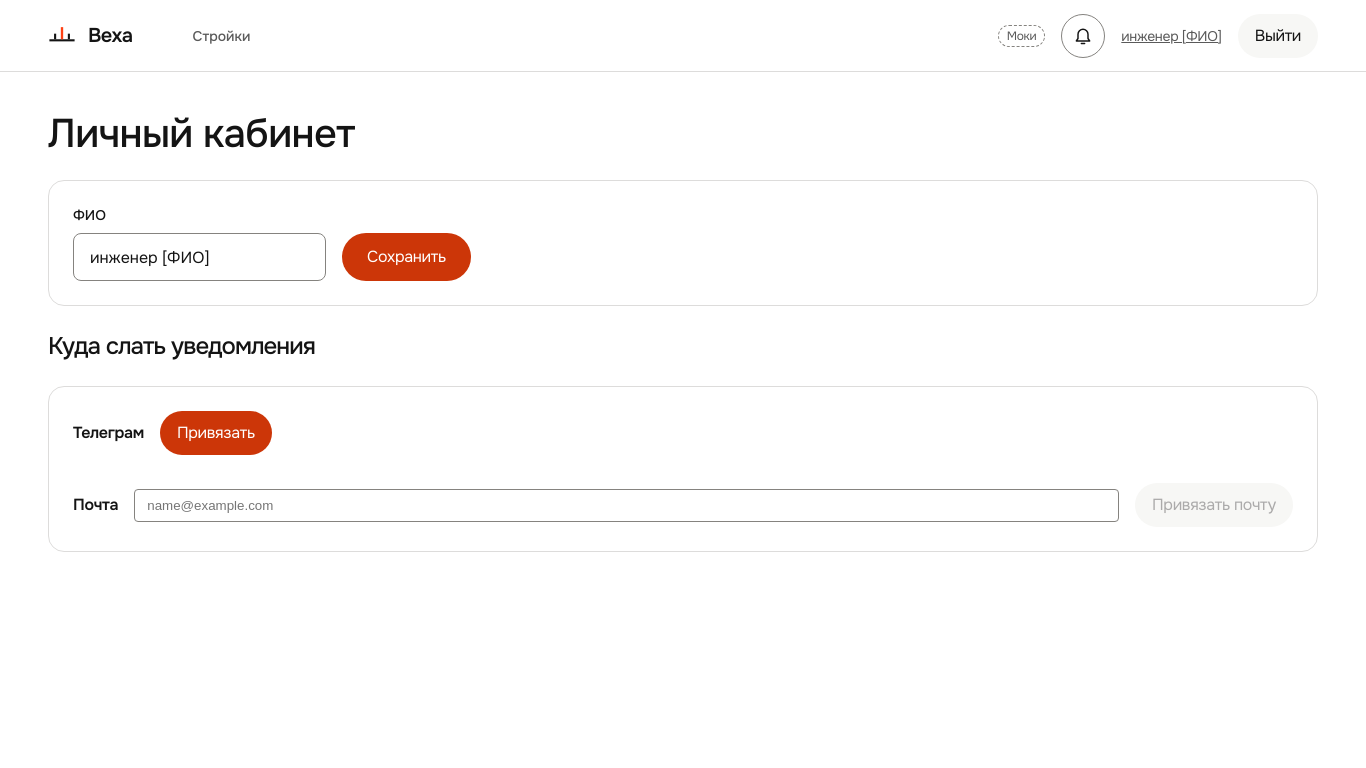
it: Личный кабинет › сохраняет новое ФИО
The image size is (1366, 768).
Replace the text in the field labelled "ФИО" with "Иванов И. И." at (200, 257), box [73,233,326,281]
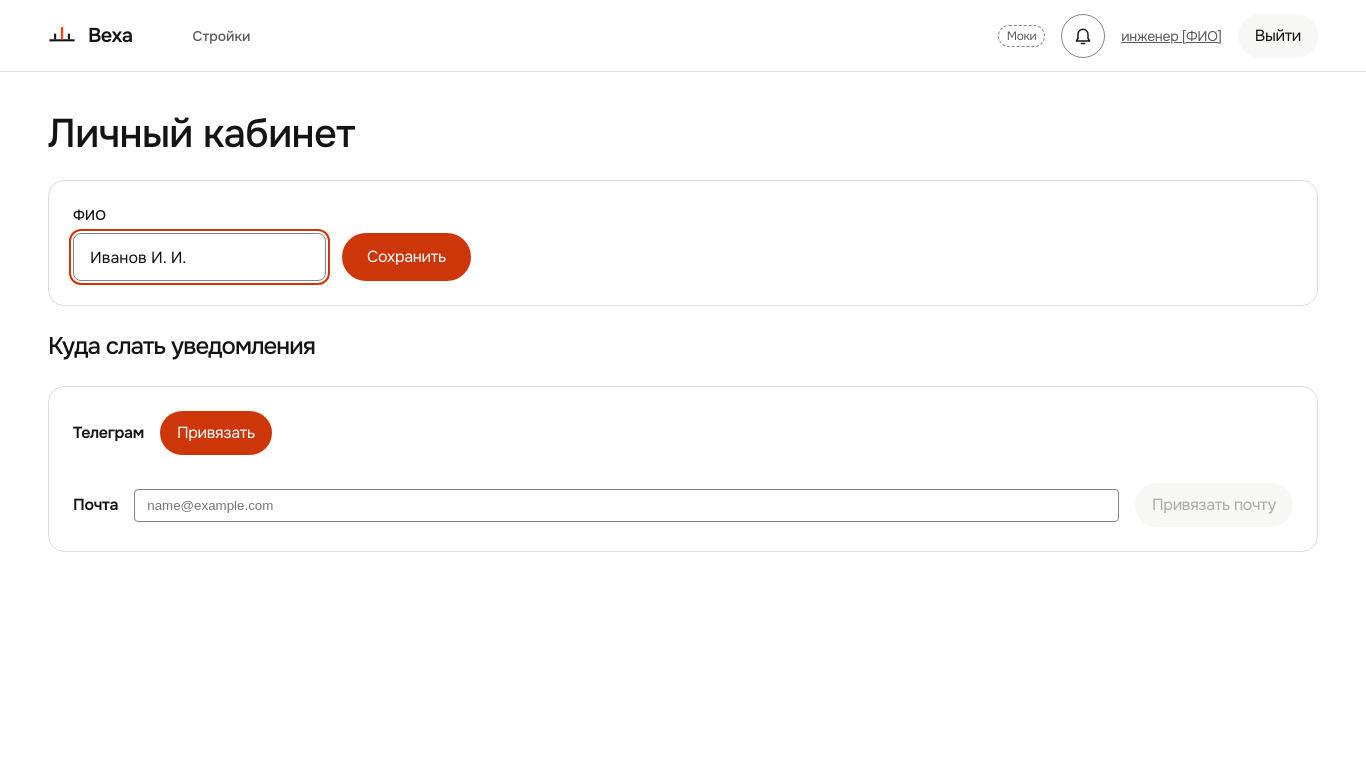
Click the button "Сохранить" at (406, 257), box [342,233,471,281]
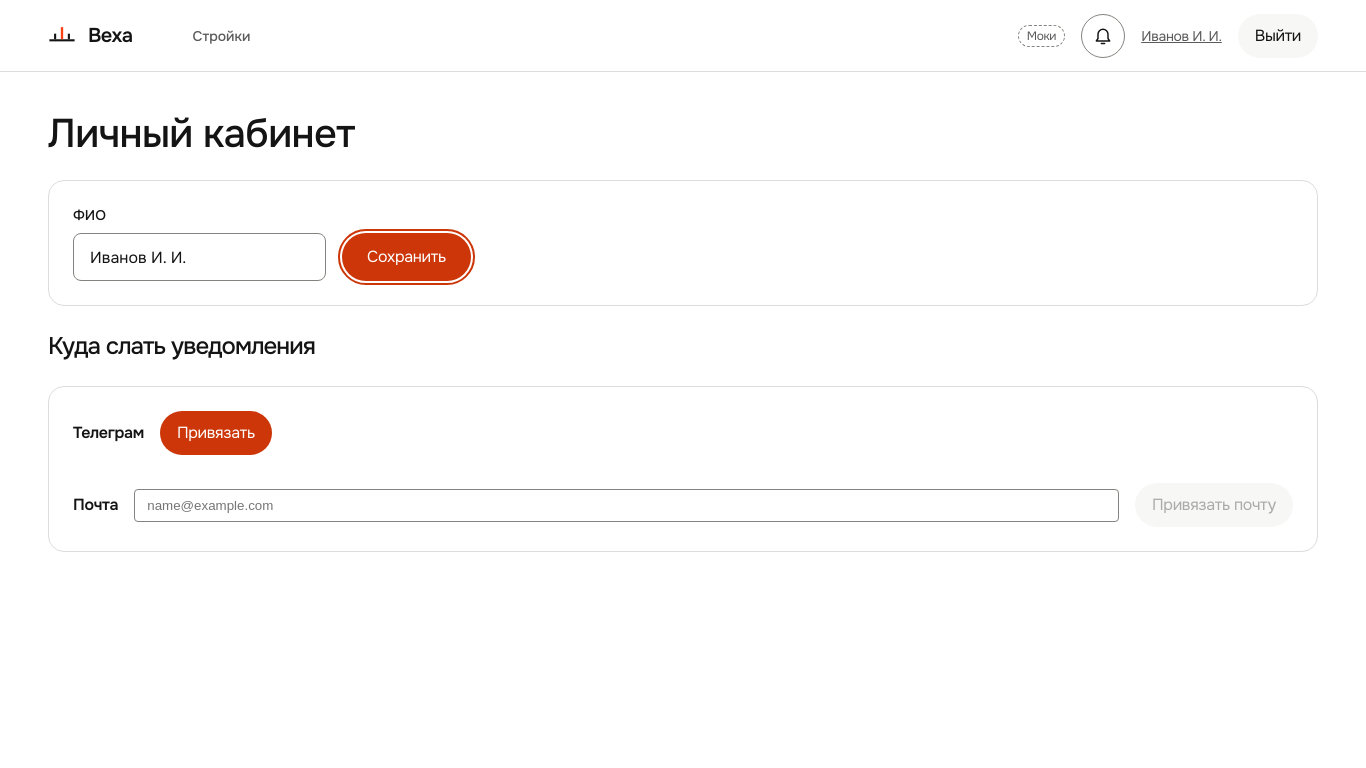
Expected: the link "Иванов И. И." is shown, [1141,26,1222,46]
